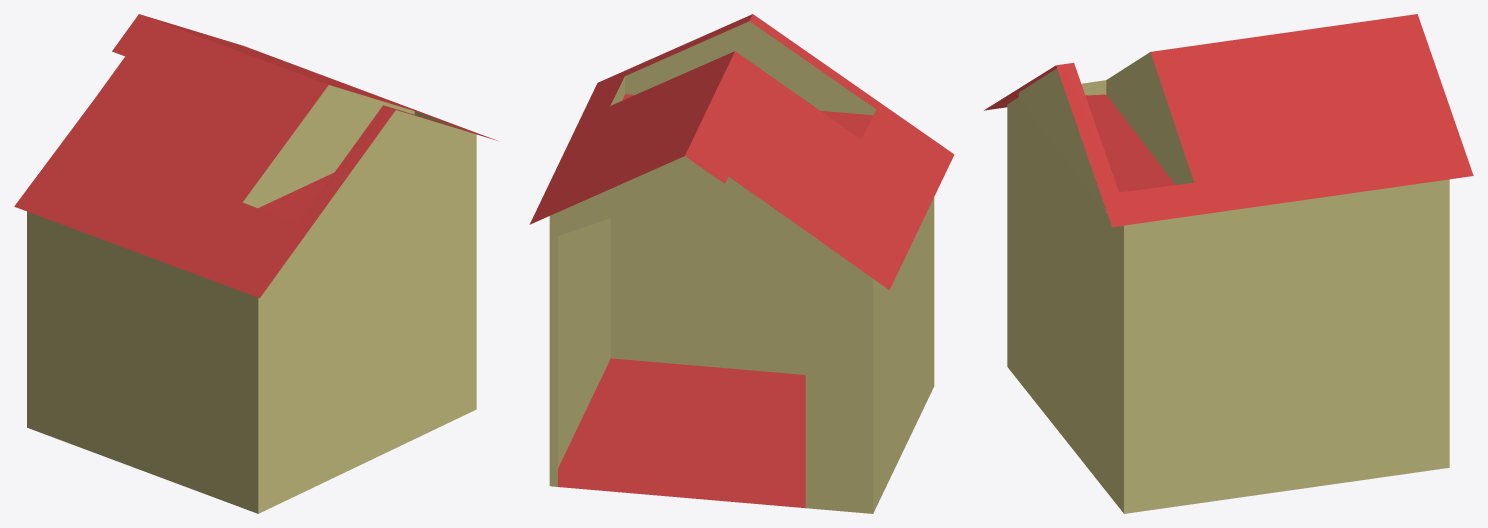
3 renders of one model, left to right at view 1: azimuth 30°, elevation 25°; view 2: azimuth 150°, elevation 25°; view 3: azimuth 270°, elevation 25°, orthographic. The views are drawn at different scales.
Size of the model in its own units: 13.16 by 12.91 by 11.28.
